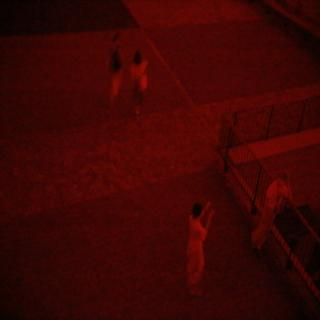person: (181, 194, 223, 303), (254, 167, 292, 255), (100, 27, 124, 109), (133, 47, 150, 112)
